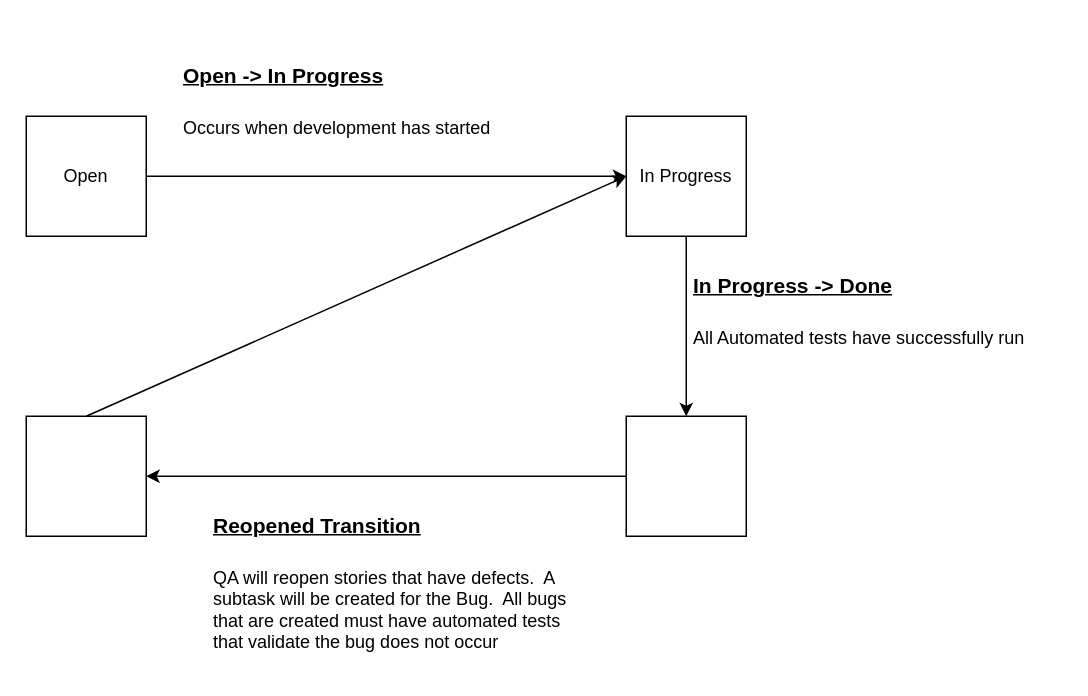
This 1088x696 diagram has some shape labels left out. Here are the shapes that lost their labels. From the top down, the centre of each, then its label:
pixel 85 475: Reopened
pixel 685 475: Done
